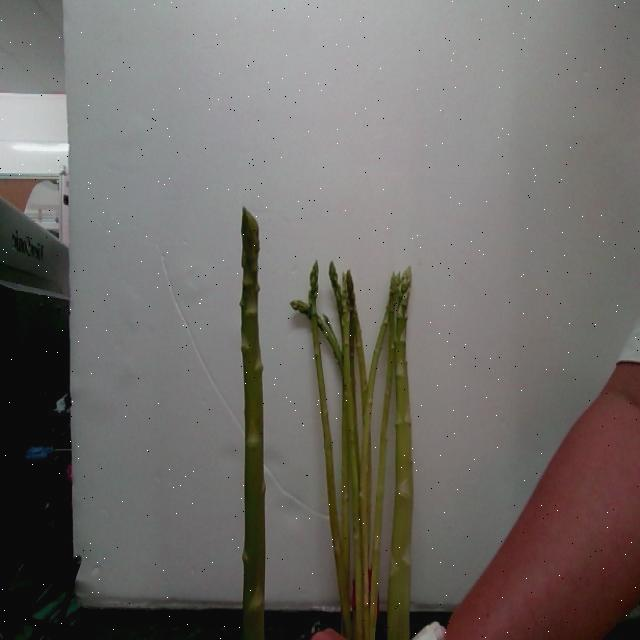aspargus: (237, 209, 263, 640)
